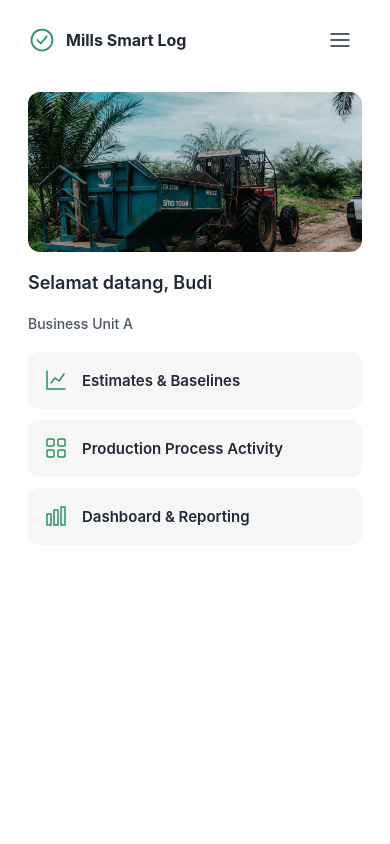
Test: HomeView — "Navigasi Home" › scenario: menu placeholder dipilih — tapping 'menu-card-estimates-baselines' shows 'Segera Hadir' and does not navigate
The width and height of the screenshot is (390, 844).
Click the button with test id "menu-card-estimates-baselines". click: (195, 380)
box: x1=28 y1=352 x2=362 y2=408
(page scrolled)
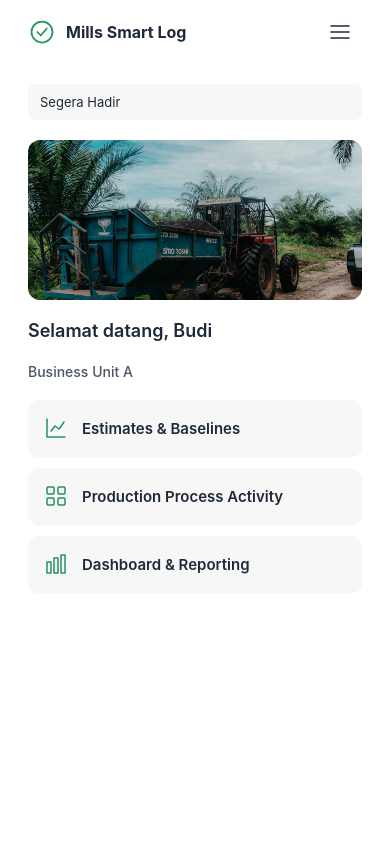
Result: the message with test id "info-message" reads "Segera Hadir" at x1=40 y1=94 x2=120 y2=110
